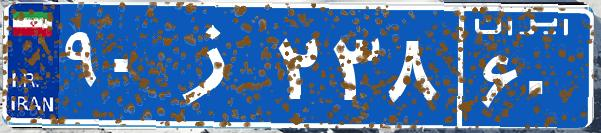0: (110, 28, 158, 105), (525, 38, 570, 115)
2: (273, 28, 330, 110)
3: (330, 28, 385, 110)
6: (475, 38, 525, 113)
8: (385, 28, 445, 110)
9: (57, 26, 110, 107)
ز: (158, 15, 273, 115)
